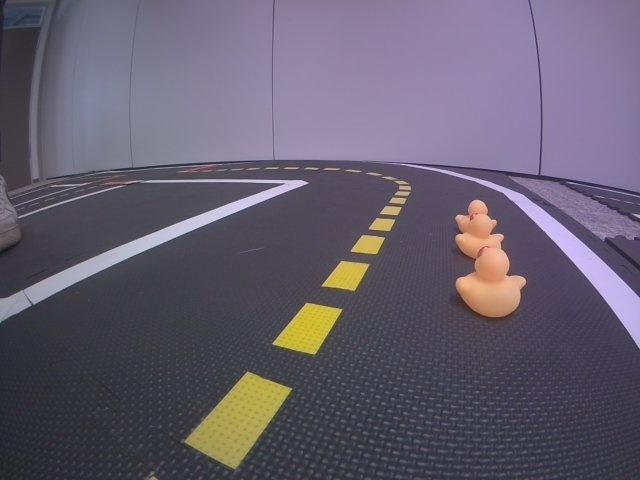duckie: (452, 245, 526, 321), (455, 214, 506, 258), (455, 201, 491, 226)
